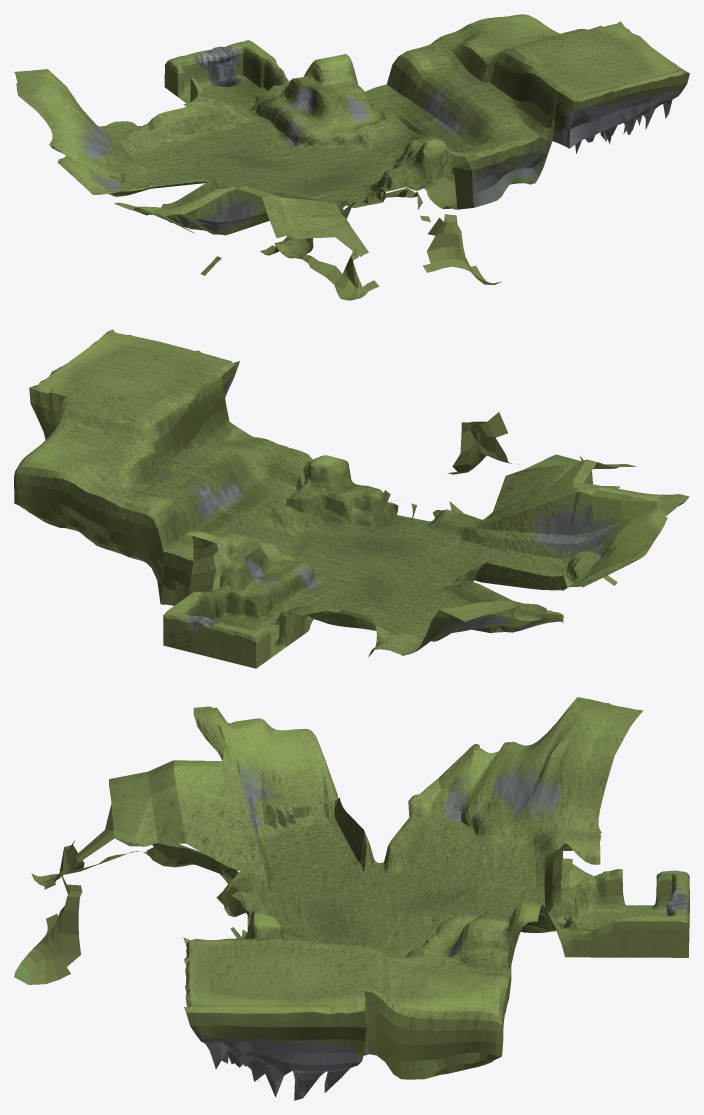
The model's file is lando.glb.
3 renders of one model, top to bottom at view 1: azimuth 30°, elevation 25°; view 2: azimuth 150°, elevation 25°; view 3: azimuth 270°, elevation 25°, orthographic. The views are drawn at different scales.
Parts seen in each view (by area): view 1: Plane.005; view 2: Plane.005; view 3: Plane.005.
Part boxes in pixels (x1=…): Plane.005: x1=14, y1=14, x2=689, y2=300; Plane.005: x1=14, y1=329, x2=689, y2=668; Plane.005: x1=14, y1=697, x2=689, y2=1100.
Bounding box in the file's own units: 824 × 187 × 712.
1 material, 1 textured.
